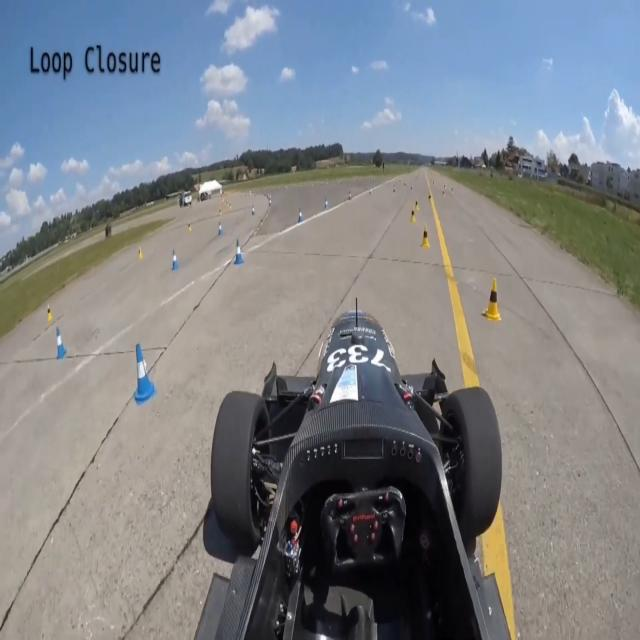blue_cone: (133, 343, 156, 405), (56, 327, 66, 360), (233, 238, 244, 266), (171, 248, 179, 272)
yellow_cone: (484, 276, 502, 321), (420, 224, 431, 249), (46, 303, 52, 320)
